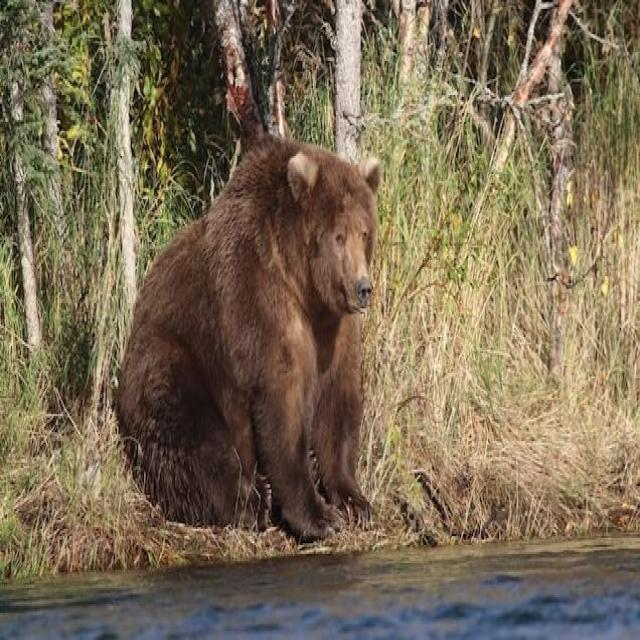Bear: (116, 134, 382, 545)
